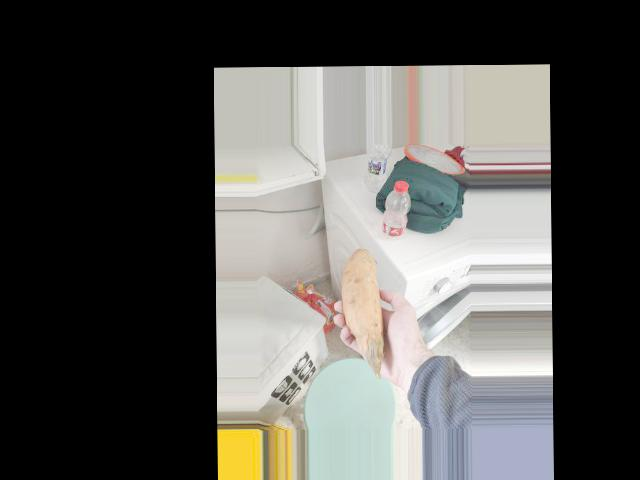sweet_potato: (341, 260, 387, 364)
